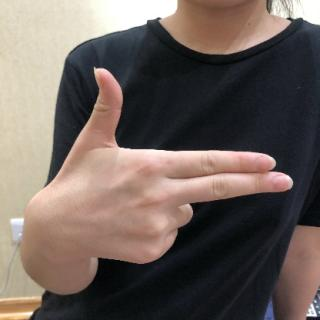GHAYN: (36, 65, 299, 268)
